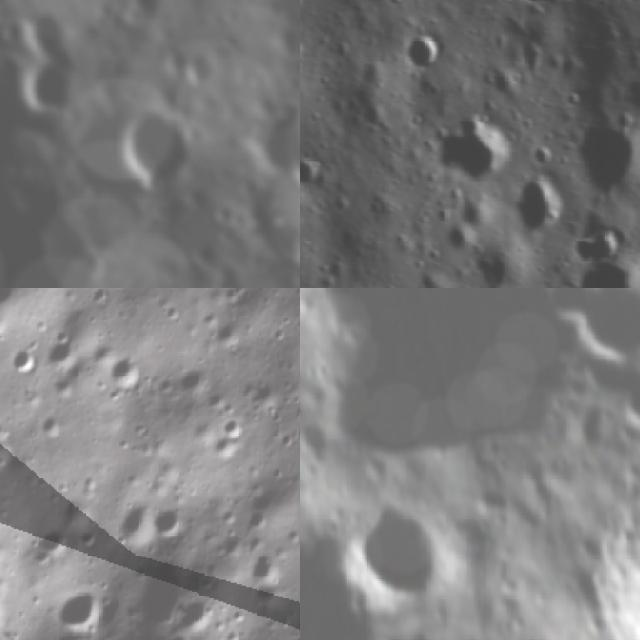crater: (300, 288, 640, 521), (0, 195, 210, 288), (338, 488, 460, 630), (570, 459, 640, 640), (300, 521, 396, 640), (123, 105, 203, 192), (567, 288, 640, 370), (563, 117, 640, 194), (565, 338, 640, 407), (44, 575, 117, 640), (436, 119, 502, 187), (21, 3, 88, 68), (29, 51, 86, 125), (506, 180, 564, 246), (106, 493, 165, 557), (244, 106, 300, 170), (538, 288, 609, 328), (103, 347, 151, 395), (145, 498, 193, 546), (557, 232, 617, 270), (24, 519, 73, 565), (473, 477, 526, 519), (242, 548, 288, 596), (0, 411, 29, 487), (40, 330, 86, 377), (408, 30, 450, 81), (206, 314, 251, 358), (611, 366, 640, 432), (173, 359, 216, 403), (571, 264, 640, 288), (5, 342, 46, 382), (300, 418, 338, 461), (187, 46, 226, 83), (236, 503, 273, 542), (208, 429, 246, 466), (308, 351, 343, 388), (36, 407, 70, 441), (215, 412, 251, 444), (120, 0, 169, 23), (618, 72, 640, 123), (217, 199, 249, 230), (0, 13, 30, 44), (521, 508, 552, 537), (400, 623, 449, 640), (300, 157, 322, 194), (50, 622, 93, 640), (157, 627, 200, 640), (290, 220, 300, 271), (512, 0, 551, 11), (561, 0, 588, 11), (600, 0, 629, 9)
